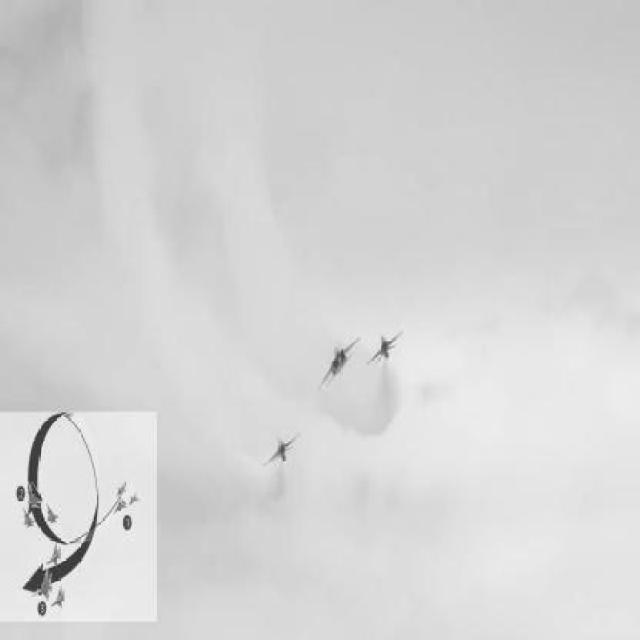Airplane: (316, 334, 361, 393), (261, 430, 303, 470), (365, 329, 405, 367)
